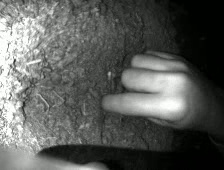corn: (107, 71, 111, 81)
